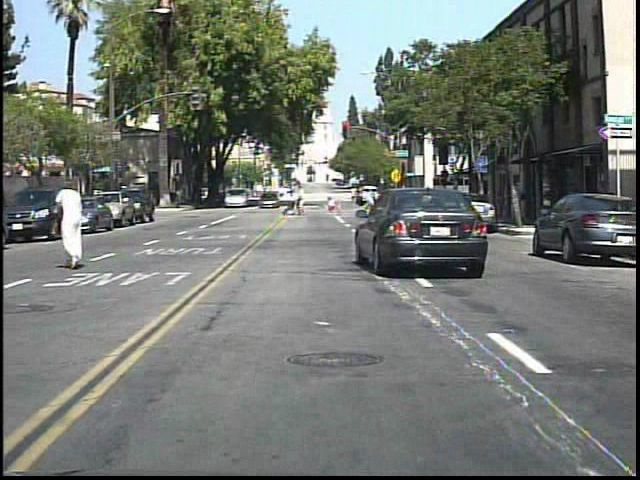person: (51, 179, 95, 272), (509, 176, 533, 228), (294, 183, 311, 219)
